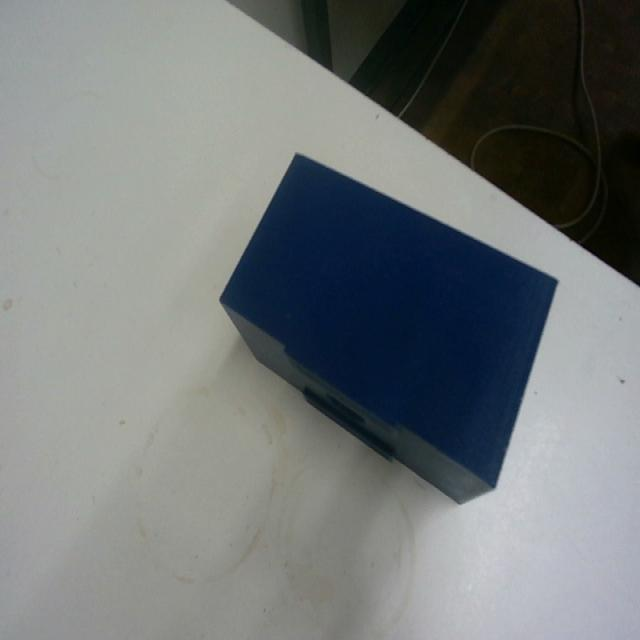Blue Cuboid: (217, 148, 559, 507)
